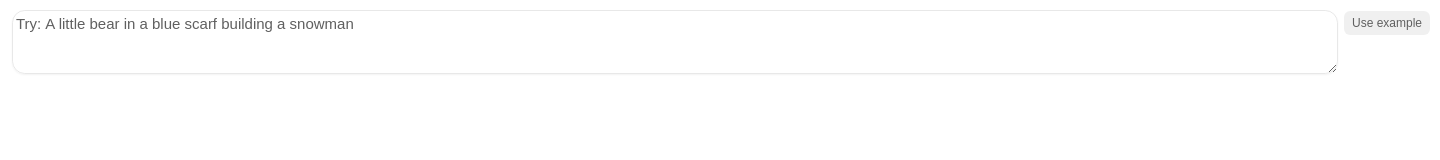
Test: classic draw composer example › "Use example" fills the box and puts the caret at its end
This screenshot has width=1440, height=160.
Click the button "Use example" at (1387, 23), box 1344,11 -> 1430,35
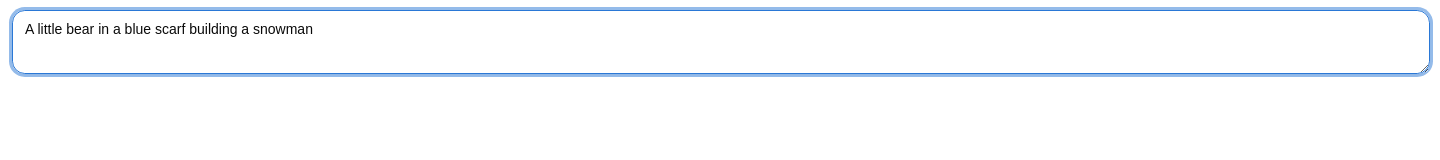
Check: the field does not show ""
Check: the text box holds "A little bear in a blue scarf building a snowman", box 12,10 -> 1430,74
